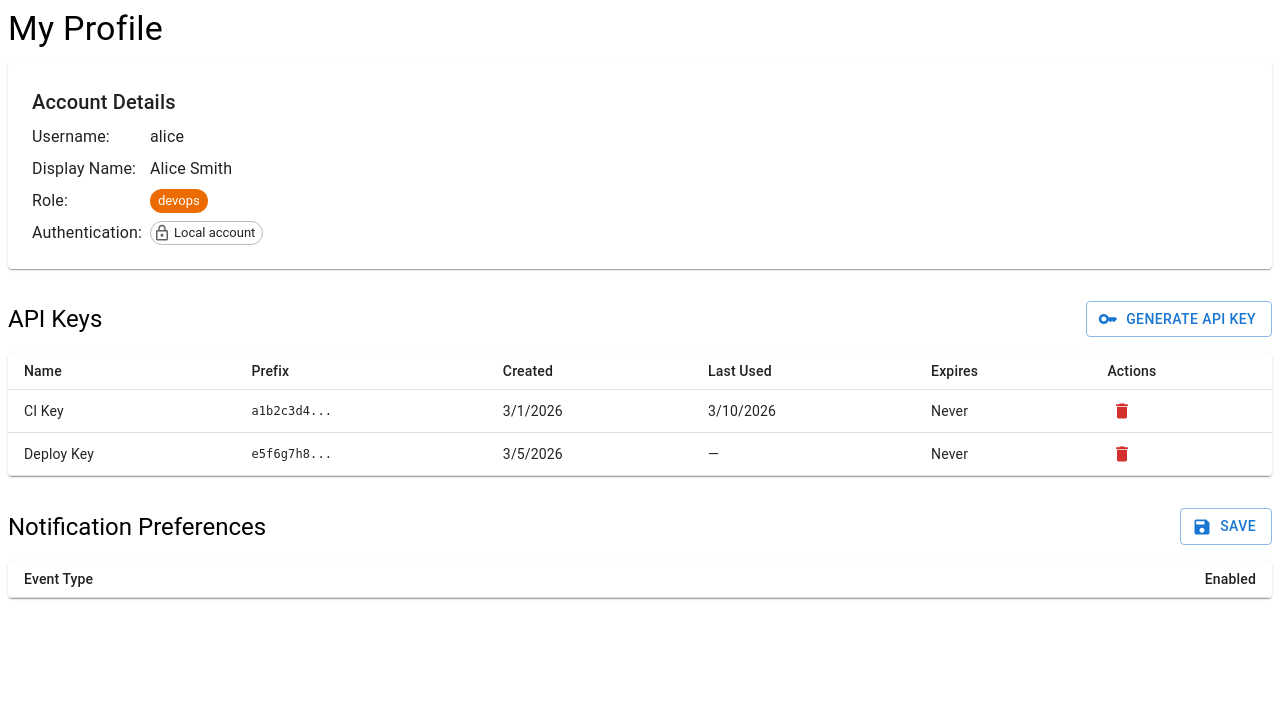
Test: Profile Page › shows error when revoking a key fails
The image size is (1280, 720).
Expected: the text "CI Key" is shown, [8,390,235,433]
Click the button named "revoke key ci key": click(1122, 411) [1107,396,1137,426]
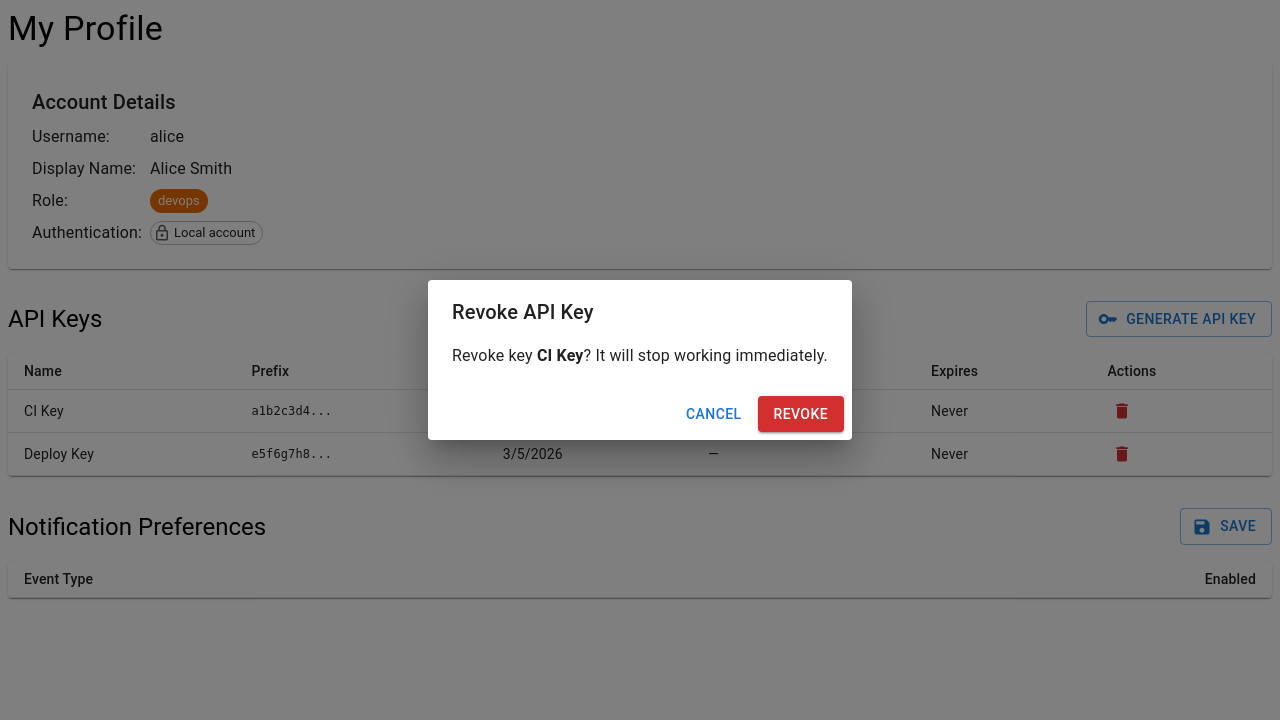
Click the button "Revoke": click(801, 414) [758,396,844,432]
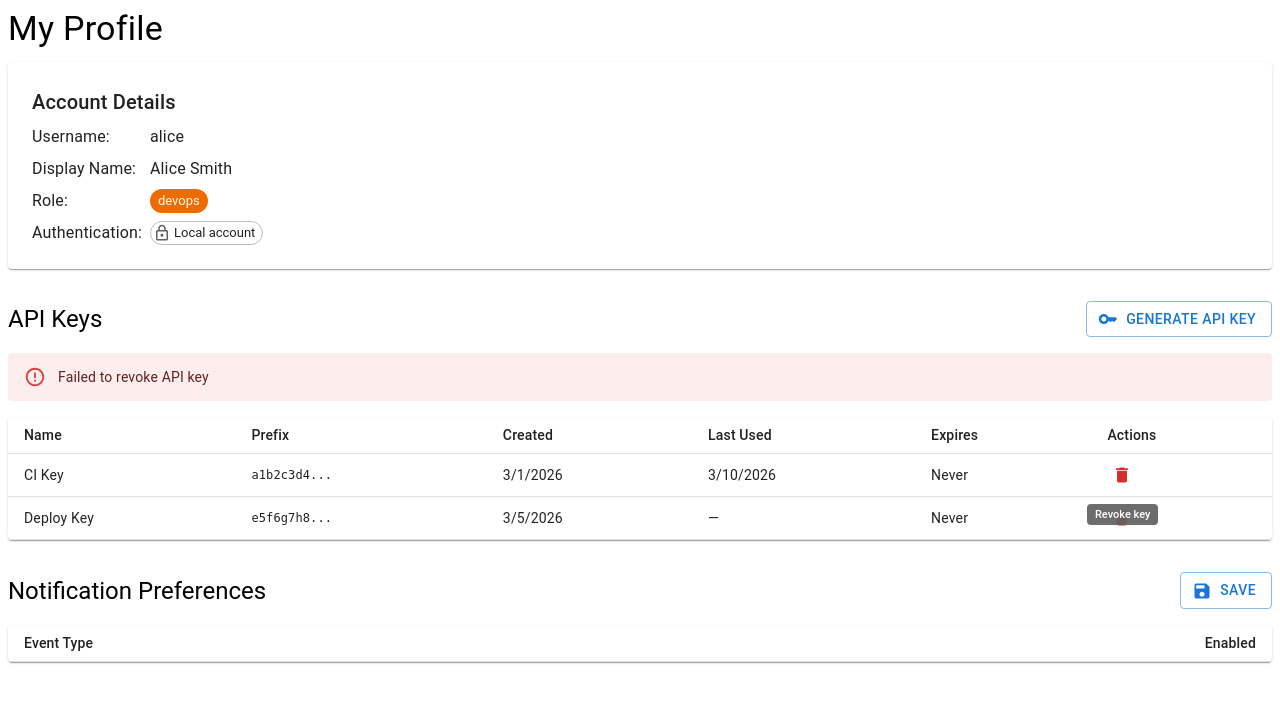
Result: the text "Failed to revoke API key" is shown at [58,369,209,385]
